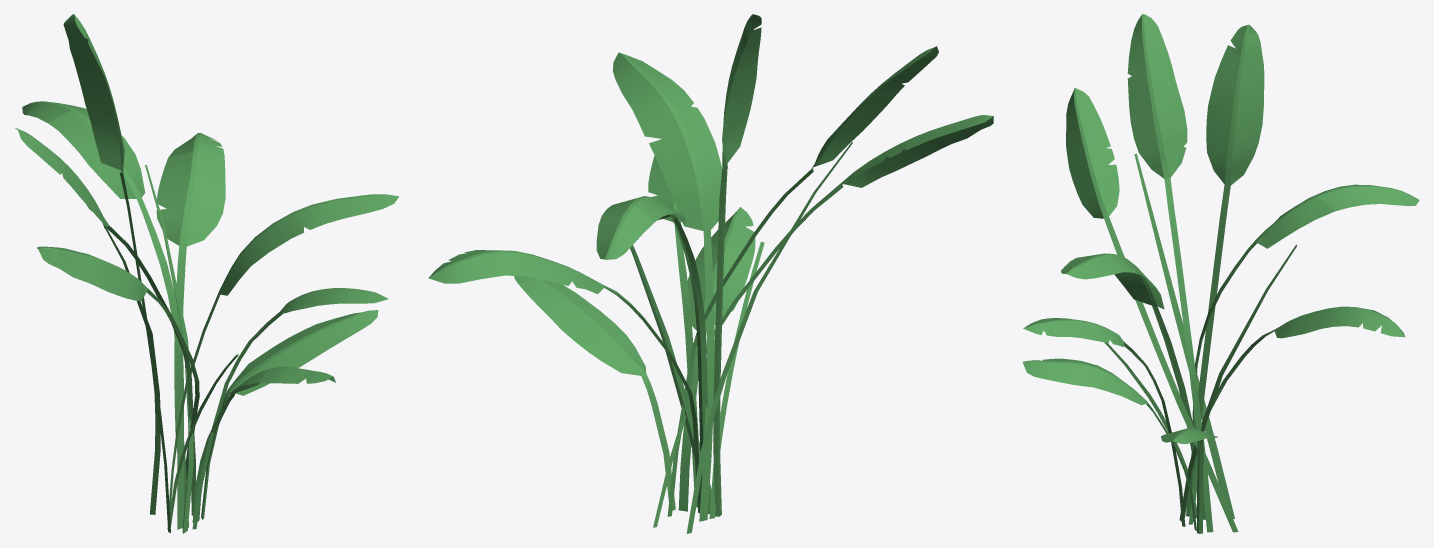
The model's file is plant_palm_F.fbx.
3 views of the same model, side by side, from view 1: azimuth 30°, elevation 25°; view 2: azimuth 150°, elevation 25°; view 3: azimuth 270°, elevation 25° (orthographic). The views are drawn at different scales.
Visible parts, largest first — view 1: plant_palm_F_leaf_F, plant_palm_F_leaf_D, plant_palm_F_leaf_A, plant_palm_F_leaf_E, plant_palm_F_leaf_I, plant_palm_F_leaf_C, plant_palm_F_leaf_B, plant_palm_F_leaf_G, plant_palm_F_leaf_H, plant_palm_F_twig_B, plant_palm_F_twig_A, plant_palm_F_twig_C; view 2: plant_palm_F_leaf_E, plant_palm_F_leaf_A, plant_palm_F_leaf_I, plant_palm_F_leaf_D, plant_palm_F_leaf_F, plant_palm_F_leaf_C, plant_palm_F_leaf_B, plant_palm_F_leaf_H, plant_palm_F_leaf_G, plant_palm_F_twig_A, plant_palm_F_twig_B, plant_palm_F_twig_C; view 3: plant_palm_F_leaf_B, plant_palm_F_leaf_A, plant_palm_F_leaf_C, plant_palm_F_leaf_D, plant_palm_F_leaf_E, plant_palm_F_leaf_F, plant_palm_F_leaf_H, plant_palm_F_leaf_G, plant_palm_F_twig_A, plant_palm_F_twig_B, plant_palm_F_leaf_I, plant_palm_F_twig_C.
Part boxes in pixels (x1,y1,x2,y2): plant_palm_F_leaf_F: (156, 133, 225, 527); plant_palm_F_leaf_D: (22, 101, 184, 529); plant_palm_F_leaf_A: (63, 14, 170, 532); plant_palm_F_leaf_E: (169, 194, 399, 511); plant_palm_F_leaf_I: (201, 310, 378, 519); plant_palm_F_leaf_C: (37, 246, 199, 479); plant_palm_F_leaf_B: (15, 128, 195, 515); plant_palm_F_leaf_G: (192, 288, 388, 529); plant_palm_F_leaf_H: (192, 366, 335, 522); plant_palm_F_twig_B: (145, 165, 193, 533); plant_palm_F_twig_A: (103, 224, 160, 514); plant_palm_F_twig_C: (167, 353, 238, 529); plant_palm_F_leaf_E: (612, 52, 721, 521); plant_palm_F_leaf_A: (713, 14, 761, 516); plant_palm_F_leaf_I: (514, 276, 675, 510); plant_palm_F_leaf_D: (596, 196, 710, 513); plant_palm_F_leaf_F: (428, 250, 700, 513); plant_palm_F_leaf_C: (653, 115, 993, 527); plant_palm_F_leaf_B: (667, 46, 938, 516); plant_palm_F_leaf_H: (678, 207, 755, 511); plant_palm_F_leaf_G: (648, 156, 701, 507); plant_palm_F_twig_A: (686, 141, 852, 533); plant_palm_F_twig_B: (630, 245, 711, 504); plant_palm_F_twig_C: (709, 241, 764, 518); plant_palm_F_leaf_B: (1127, 14, 1213, 532); plant_palm_F_leaf_A: (1186, 24, 1264, 516); plant_palm_F_leaf_C: (1066, 88, 1238, 532); plant_palm_F_leaf_D: (1190, 184, 1419, 511); plant_palm_F_leaf_E: (1061, 253, 1205, 519); plant_palm_F_leaf_F: (1188, 306, 1405, 524); plant_palm_F_leaf_H: (1022, 358, 1196, 530); plant_palm_F_leaf_G: (1023, 318, 1185, 526); plant_palm_F_twig_A: (1134, 153, 1234, 518); plant_palm_F_twig_B: (1179, 244, 1297, 521); plant_palm_F_leaf_I: (1161, 428, 1217, 533); plant_palm_F_twig_C: (1104, 342, 1196, 518).
Bounding box in the file's own units: 228 × 281 × 218.
